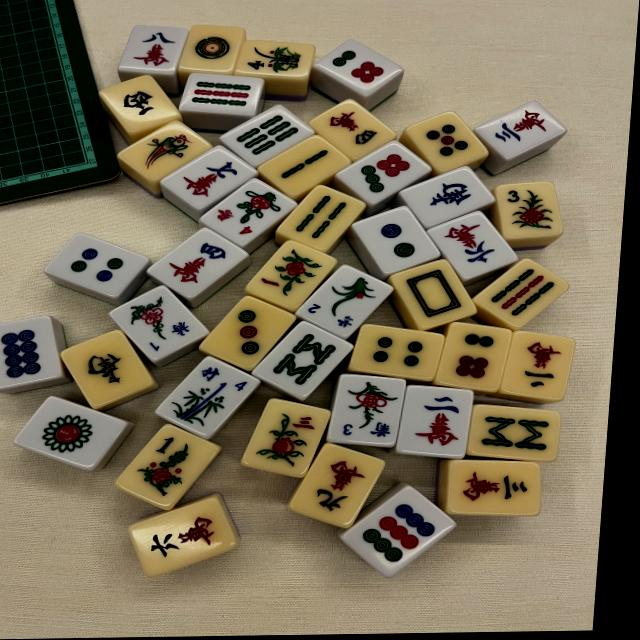1B: (116, 123, 211, 185)
1D: (11, 394, 130, 473), (182, 24, 245, 73)
1F: (107, 284, 213, 364), (129, 434, 198, 505)
1S: (244, 239, 342, 315)
2B: (257, 134, 352, 201)
2C: (397, 386, 473, 459), (500, 331, 575, 402)
2D: (42, 229, 152, 300), (350, 206, 444, 280)
2F: (295, 262, 397, 342)
3C: (477, 100, 568, 162), (448, 461, 542, 516)
3D: (217, 305, 276, 357)
3F: (326, 375, 406, 447), (501, 186, 562, 237)
3S: (251, 410, 323, 471)
4B: (280, 185, 367, 254)
4C: (149, 225, 250, 303), (309, 97, 398, 164)
4D: (351, 326, 445, 378)
4F: (155, 356, 263, 442), (235, 41, 315, 78)
4S: (199, 175, 299, 250)
5D: (405, 109, 488, 172)
6B: (221, 105, 317, 167)
6C: (424, 210, 523, 284), (132, 512, 228, 569)
6D: (437, 322, 514, 391), (314, 38, 402, 97)
7C: (159, 145, 258, 212)
7D: (335, 141, 432, 207)
8B: (253, 319, 354, 403), (470, 409, 558, 457)
8C: (120, 25, 190, 72)
8D: (0, 315, 64, 391)
9B: (489, 264, 562, 321), (182, 75, 264, 116)
9C: (287, 443, 385, 530)
9D: (339, 484, 456, 580)
SW: (399, 165, 497, 233), (77, 339, 138, 397)
WD: (390, 259, 479, 331)
WW: (115, 87, 165, 123)
